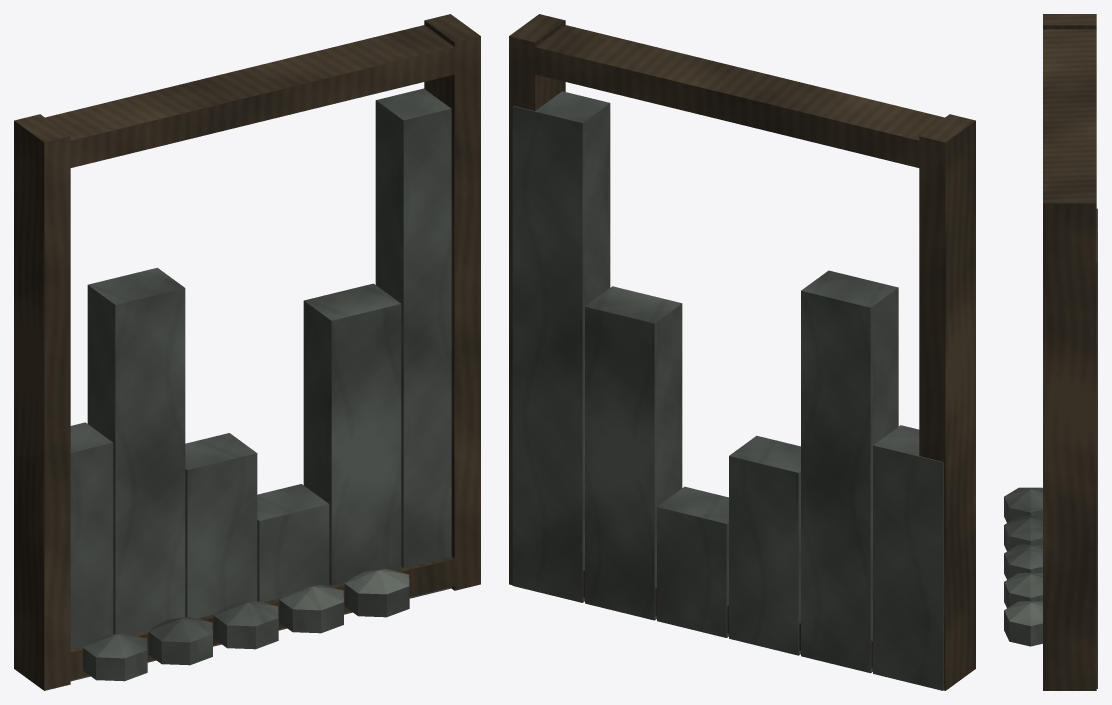
The model's file is Wall_Ruined_2m.glb.
The picture shows the model from 3 angles, left to right: view 1: azimuth 30°, elevation 25°; view 2: azimuth 150°, elevation 25°; view 3: azimuth 270°, elevation 25°; orthographic projection. The views are drawn at different scales.
Visible parts, largest first — view 1: Wall_Ruined_2m; view 2: Wall_Ruined_2m; view 3: Wall_Ruined_2m.
Part boxes in pixels (<box>): Wall_Ruined_2m: <box>14,14,480,690</box>; Wall_Ruined_2m: <box>509,14,975,690</box>; Wall_Ruined_2m: <box>1004,14,1097,690</box>.
Bounding box in the file's own units: 2 × 2.4 × 0.4182.
2 materials, 2 textured.
